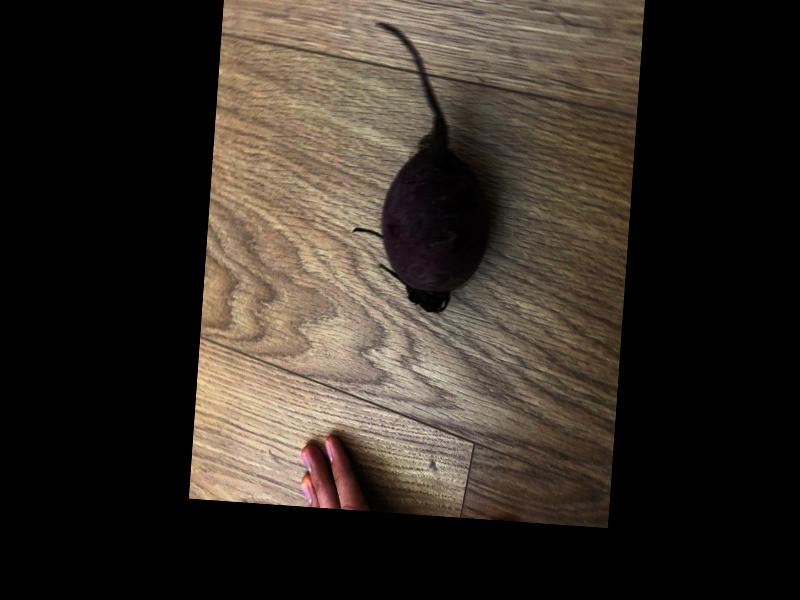Beet: (348, 20, 500, 314)
